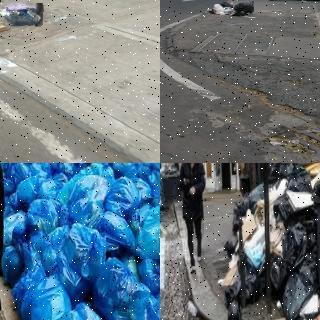Garbage: (92, 257, 154, 320), (58, 222, 109, 277), (18, 276, 75, 320), (282, 251, 318, 320), (63, 174, 110, 226), (26, 194, 70, 236), (12, 174, 63, 201), (138, 198, 160, 260), (60, 301, 118, 320), (0, 1, 43, 26), (0, 243, 26, 283), (242, 265, 261, 305), (10, 163, 35, 186), (143, 163, 160, 194), (111, 163, 142, 178), (50, 163, 84, 174), (233, 1, 254, 13), (0, 163, 22, 170), (213, 4, 225, 15), (223, 7, 234, 14)
